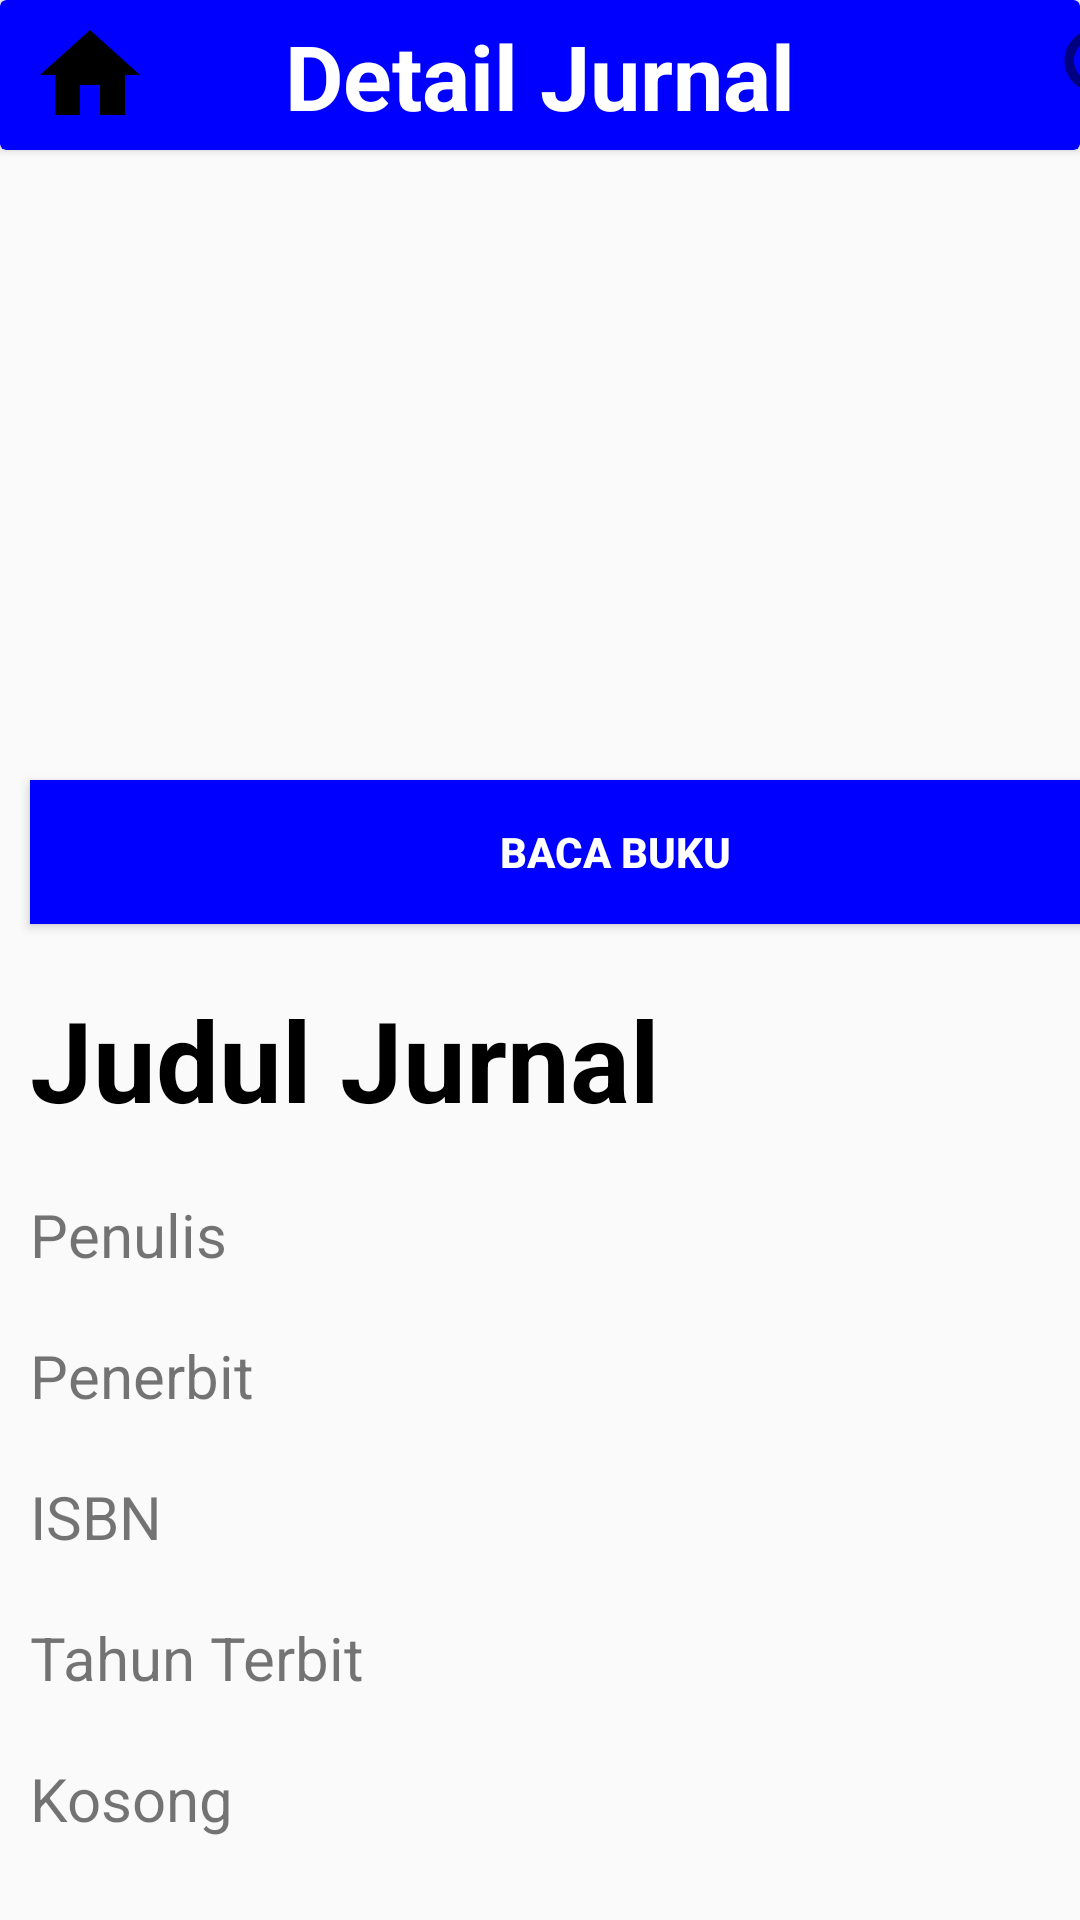

Icons on this 1080px×1920px Android screen, each with its box as box(x1, y1, x2, y2):
home: box(40, 30, 140, 115)
